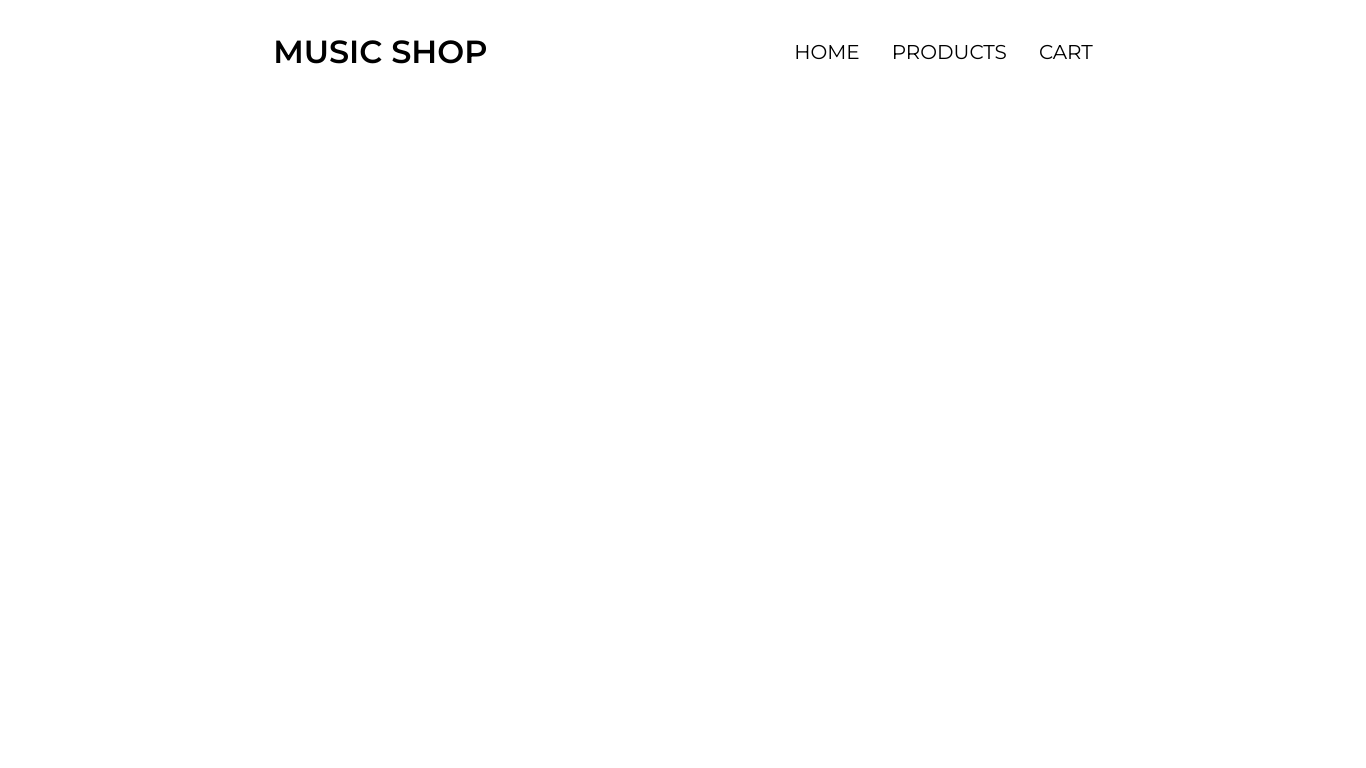
Scenario: Navigation links › should display the cart when clicking on the Cart button
Click the button "CART" at (1066, 52), box [1039,40,1093,64]
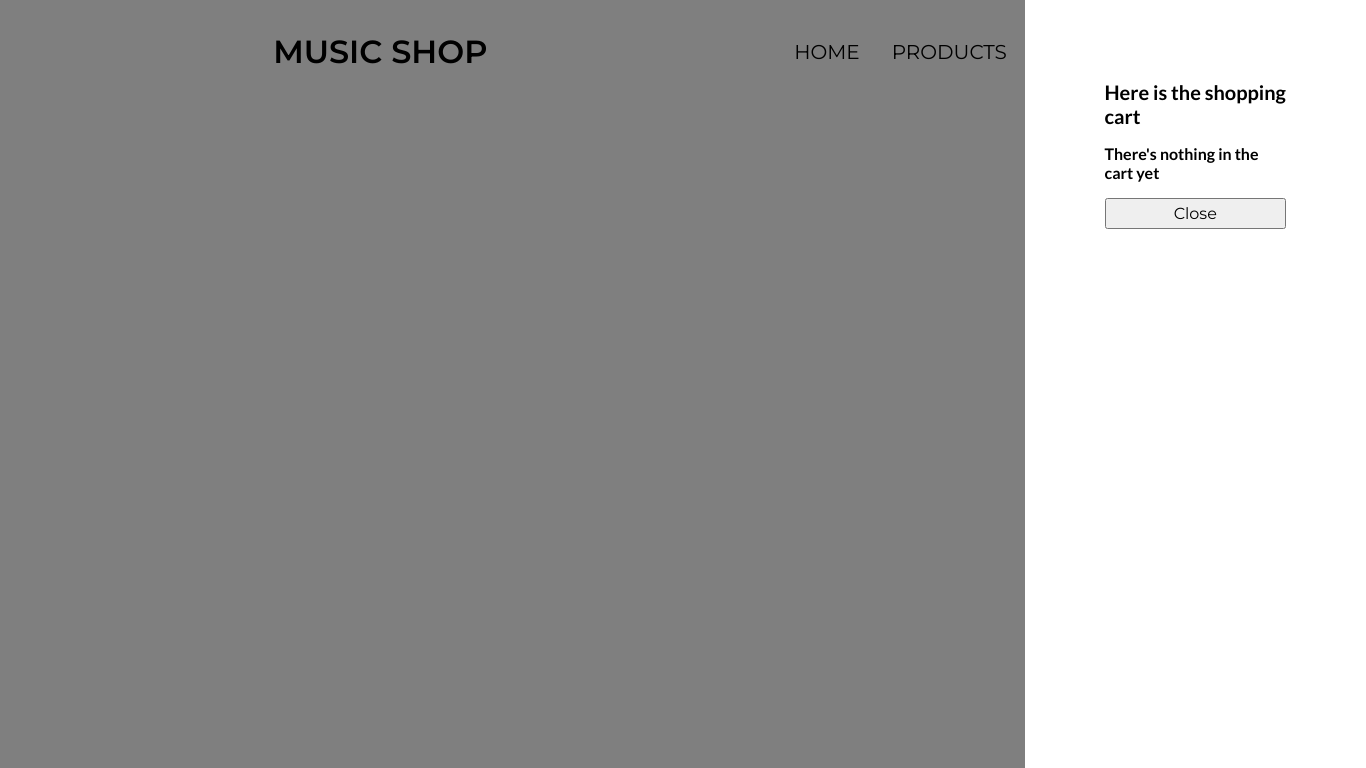
Now the heading "Here is the shopping cart" is shown, box [1104,80,1286,128]
